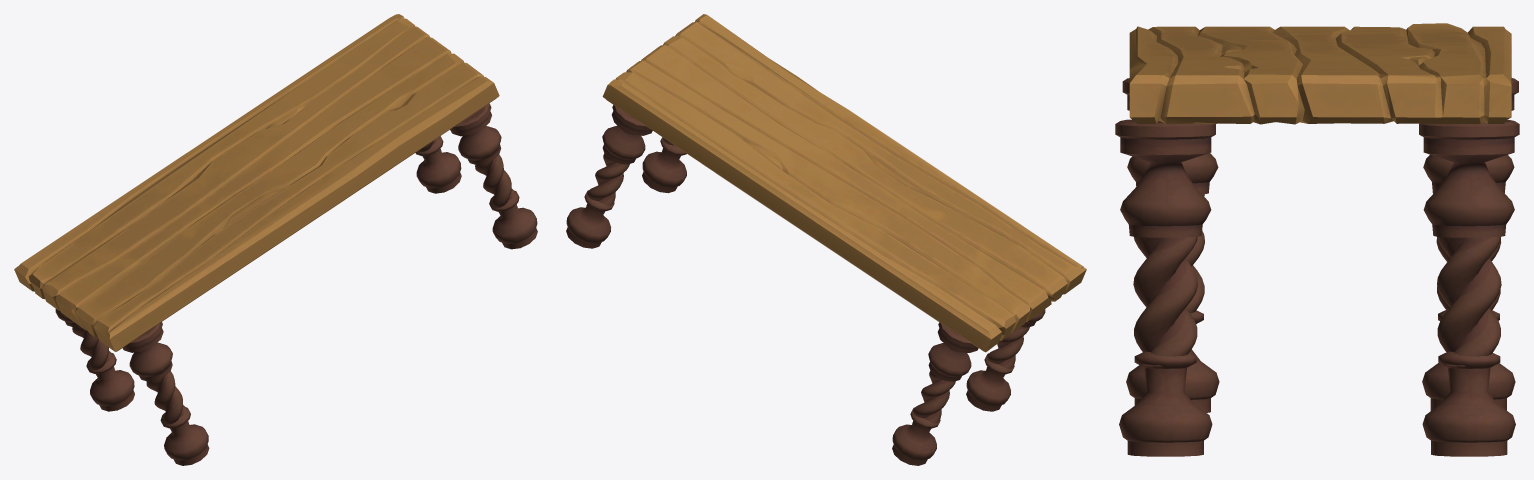
Rendered from TopShelf.fbx.
The picture shows the model from 3 angles, left to right: view 1: azimuth 30°, elevation 25°; view 2: azimuth 150°, elevation 25°; view 3: azimuth 270°, elevation 25°; orthographic projection. The views are drawn at different scales.
Parts seen in each view (by area): view 1: TopShelf, middleStickPart3 (×2), middleStickPart2 (×3), middleStickPart1 (3), middleStickPart1 (1), middleStickPart1, middleStickPart1 (2); view 2: TopShelf, middleStickPart3 (×2), middleStickPart2 (×3), middleStickPart1, middleStickPart1 (1), middleStickPart1 (2), middleStickPart1 (3); view 3: TopShelf, middleStickPart3 (×4), middleStickPart2 (×3), middleStickPart1 (3), middleStickPart1 (2), middleStickPart1 (1), middleStickPart1.
Boxes of the visible parts, x1=… form: TopShelf: x1=14, y1=14, x2=499, y2=351; middleStickPart3 (×2): x1=122, y1=103, x2=501, y2=381; middleStickPart2 (×3): x1=72, y1=154, x2=518, y2=424; middleStickPart1 (3): x1=489, y1=190, x2=537, y2=249; middleStickPart1 (1): x1=160, y1=407, x2=209, y2=465; middleStickPart1: x1=86, y1=353, x2=134, y2=411; middleStickPart1 (2): x1=415, y1=136, x2=461, y2=193; TopShelf: x1=602, y1=14, x2=1086, y2=352; middleStickPart3 (×2): x1=602, y1=105, x2=978, y2=381; middleStickPart2 (×3): x1=587, y1=153, x2=1029, y2=423; middleStickPart1: x1=892, y1=407, x2=940, y2=465; middleStickPart1 (1): x1=966, y1=353, x2=1014, y2=411; middleStickPart1 (2): x1=566, y1=190, x2=614, y2=248; middleStickPart1 (3): x1=642, y1=137, x2=686, y2=193; TopShelf: x1=1129, y1=23, x2=1511, y2=124; middleStickPart3 (×4): x1=1115, y1=78, x2=1519, y2=237; middleStickPart2 (×3): x1=1133, y1=194, x2=1501, y2=366; middleStickPart1 (3): x1=1119, y1=351, x2=1212, y2=456; middleStickPart1 (2): x1=1422, y1=351, x2=1515, y2=456; middleStickPart1 (1): x1=1126, y1=310, x2=1219, y2=412; middleStickPart1: x1=1422, y1=309, x2=1515, y2=410.
Bounding box in the file's own units: 10.48 × 7.28 × 4.23.
